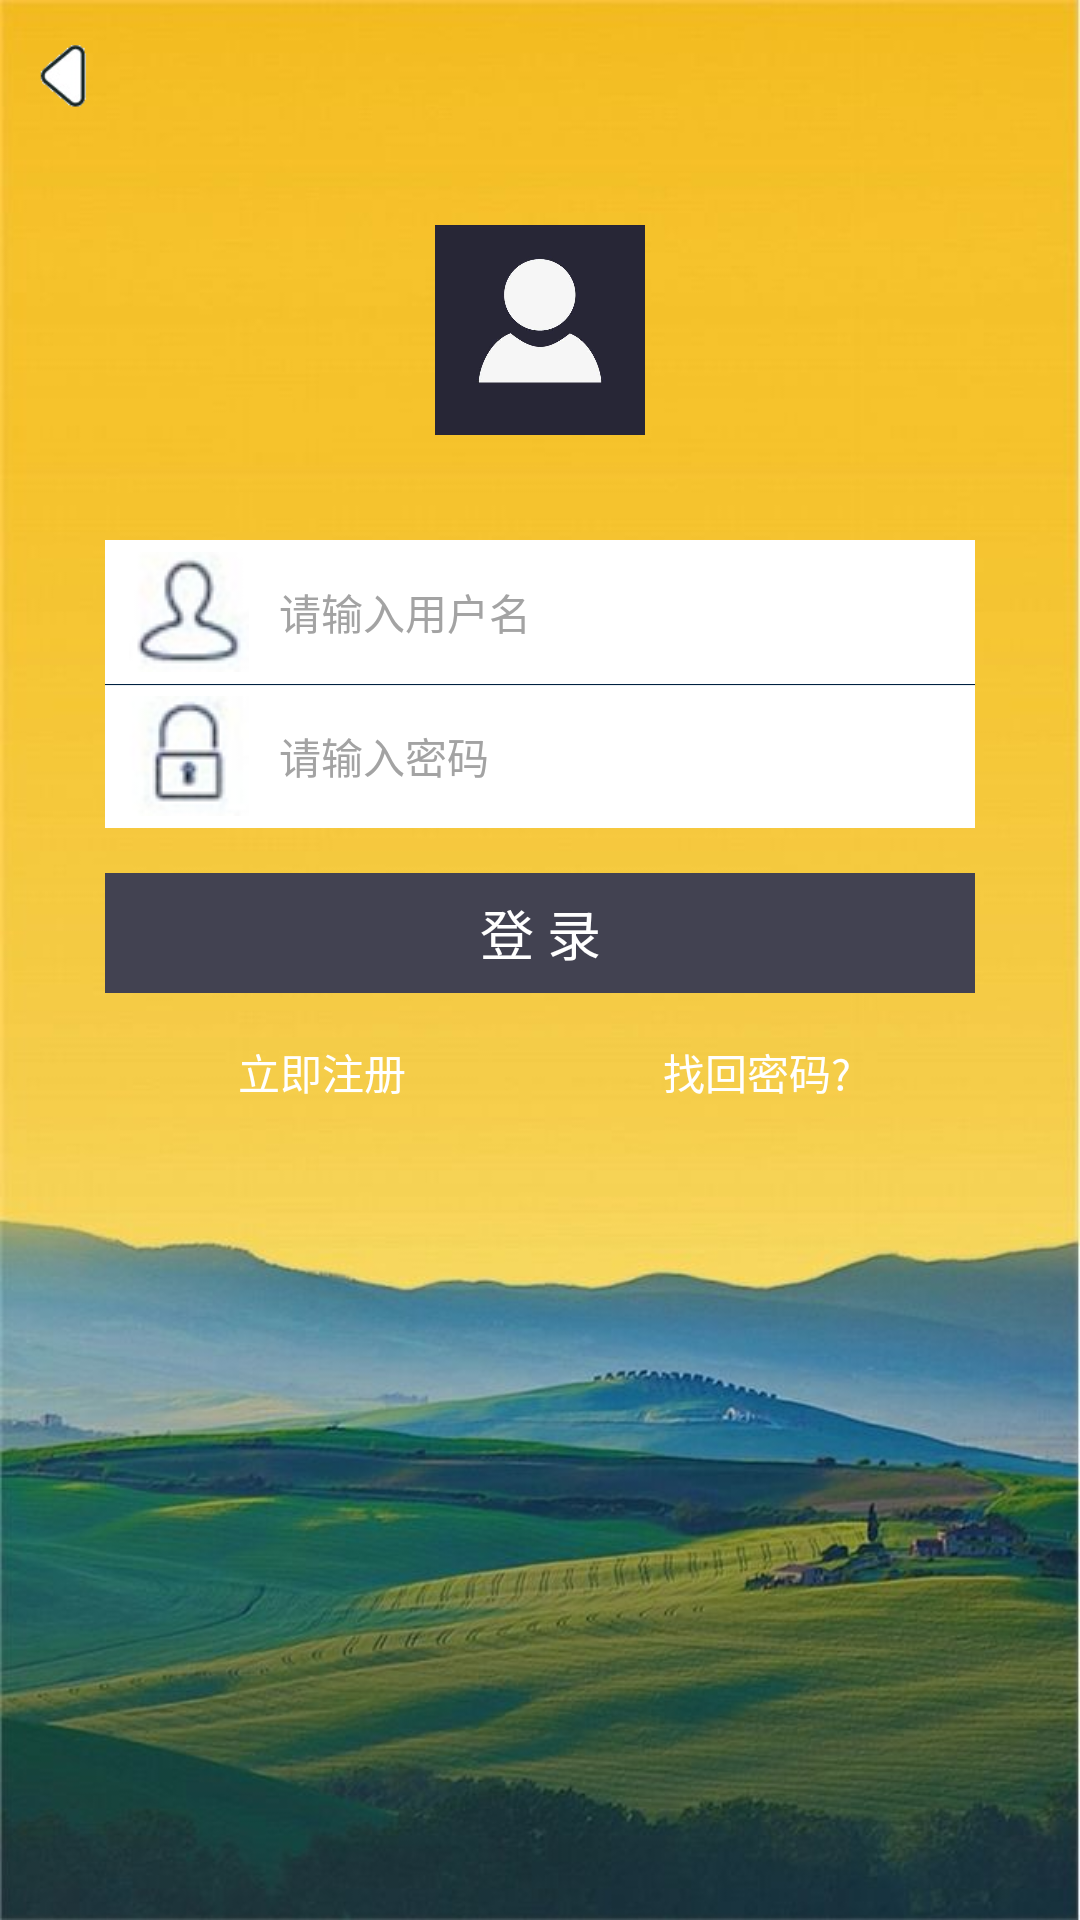

Named icons in this screenshot (1080×1920) and their centers, (x=x, y=y):
back: (x=63, y=76)
